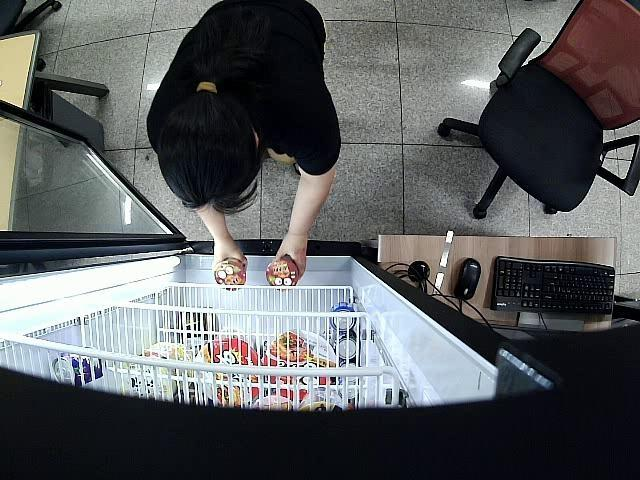06_nuguri_S: (211, 255, 249, 290), (266, 254, 300, 290)
